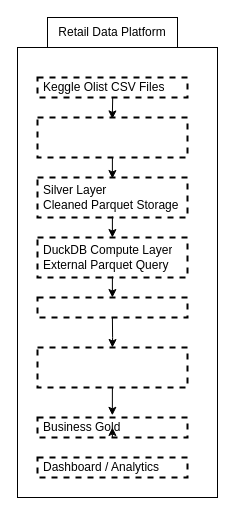
Some shapes in this 235 by 515 pixel diagram are drawn without their labels. Each missing label, with the centre of its shape:
"Bronze Layer Raw Parquet Storage" belongs at point (112, 137).
"dbt Marts Star Schema" belongs at point (112, 367).
"DBT Staging" belongs at point (112, 307).
